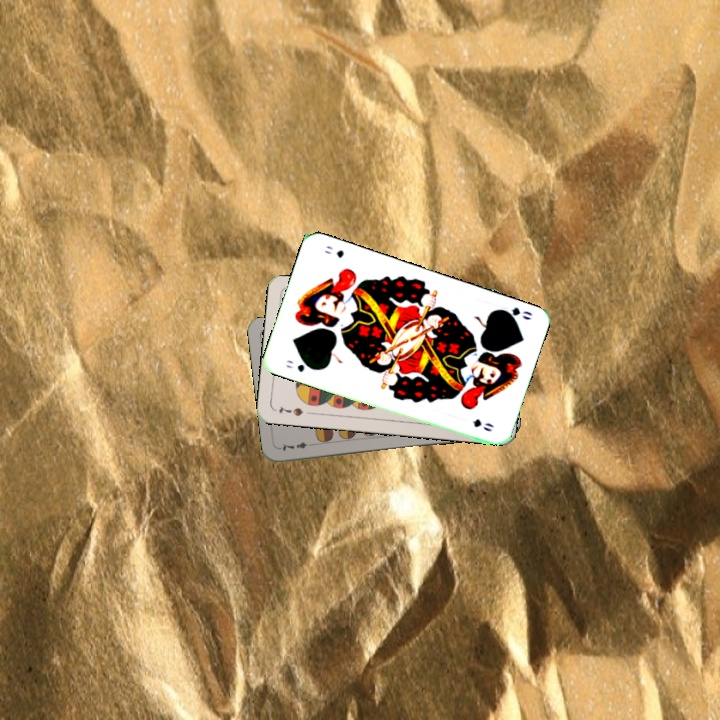E7: (276, 438, 317, 454)
GO: (494, 303, 535, 323), (282, 356, 318, 375)
S7: (275, 402, 305, 419)
